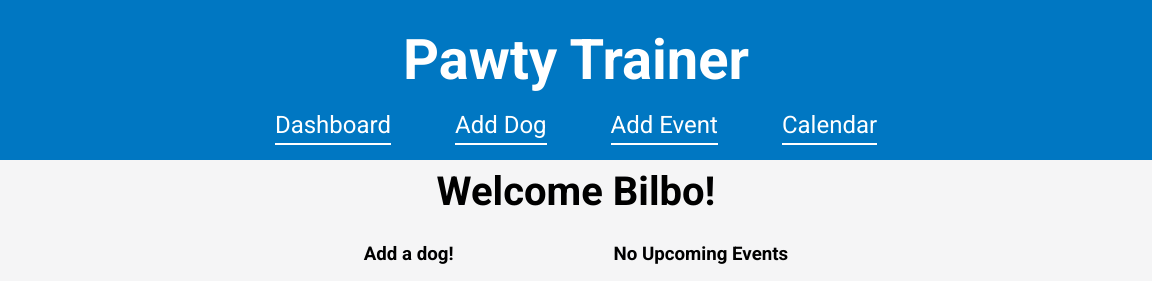
Test: No Data › The calendar page should tell the user that there are no upcoming events
Click the link "Calendar": (830,129) [782,111,877,146]
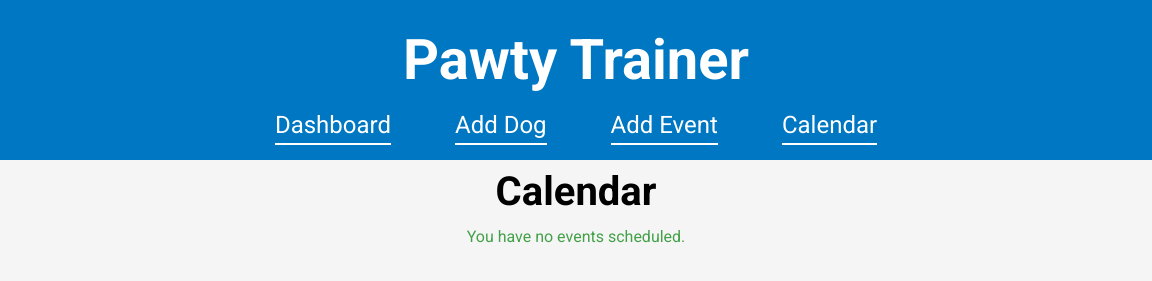
Now the text "You have no events scheduled." is shown, box [467,224,685,250]
